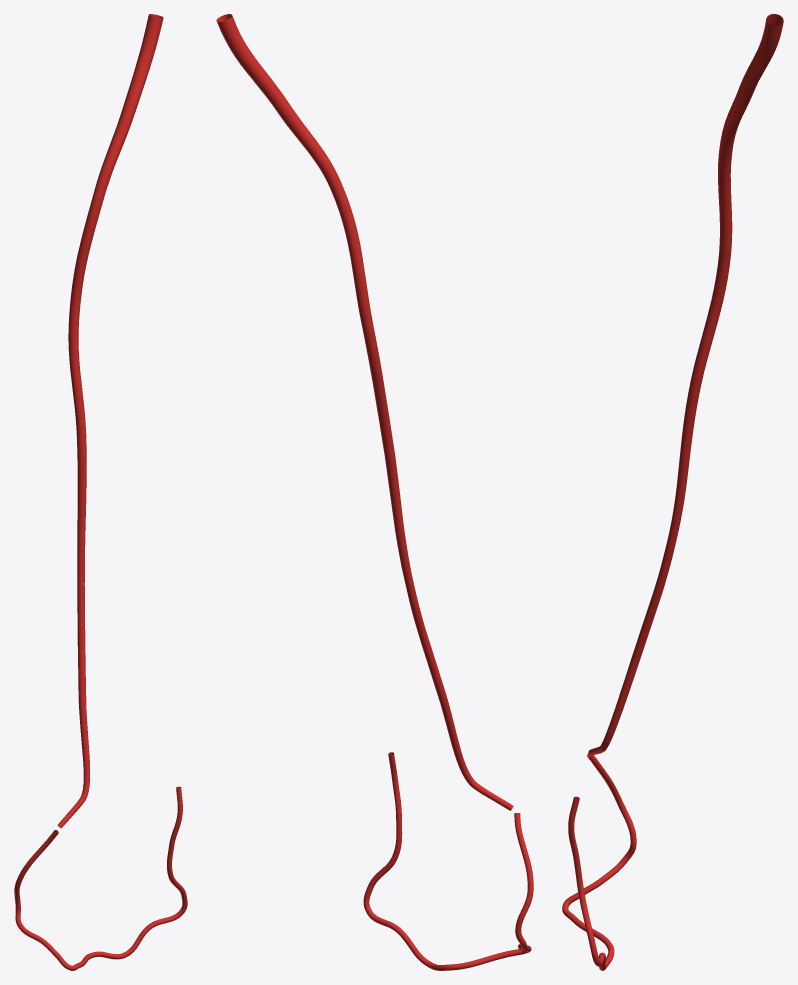
The model's file is circulatorio-radial-veins-r.glb.
3 views of the same model, side by side, from view 1: azimuth 30°, elevation 25°; view 2: azimuth 150°, elevation 25°; view 3: azimuth 270°, elevation 25° (orthographic). The views are drawn at different scales.
Visible parts, largest first — view 1: Radial veins.r, Deep venous palmar arch.r; view 2: Radial veins.r, Deep venous palmar arch.r; view 3: Radial veins.r, Deep venous palmar arch.r.
Part boxes in pixels (x1=…): Radial veins.r: x1=57, y1=14, x2=163, y2=828; Deep venous palmar arch.r: x1=14, y1=786, x2=187, y2=970; Radial veins.r: x1=216, y1=14, x2=513, y2=810; Deep venous palmar arch.r: x1=363, y1=752, x2=533, y2=970; Radial veins.r: x1=588, y1=14, x2=783, y2=755; Deep venous palmar arch.r: x1=562, y1=753, x2=636, y2=970.
Bounding box in the file's own units: 0.0646 × 0.252 × 0.0499.
